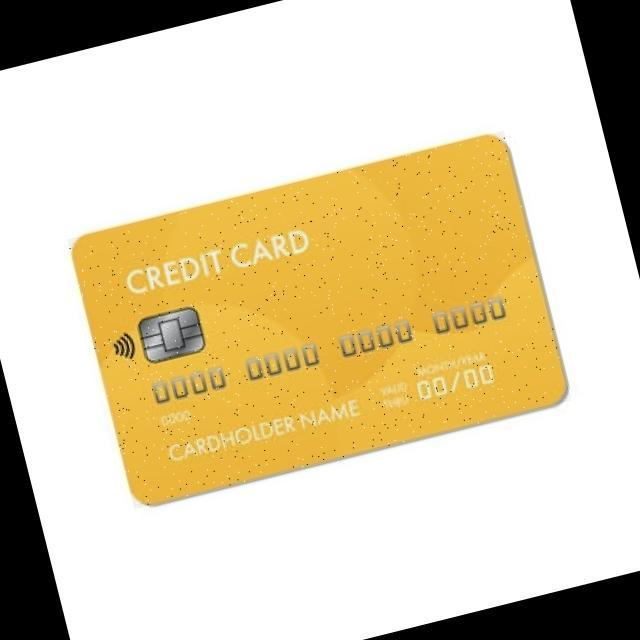payment_card: (69, 132, 569, 506)
